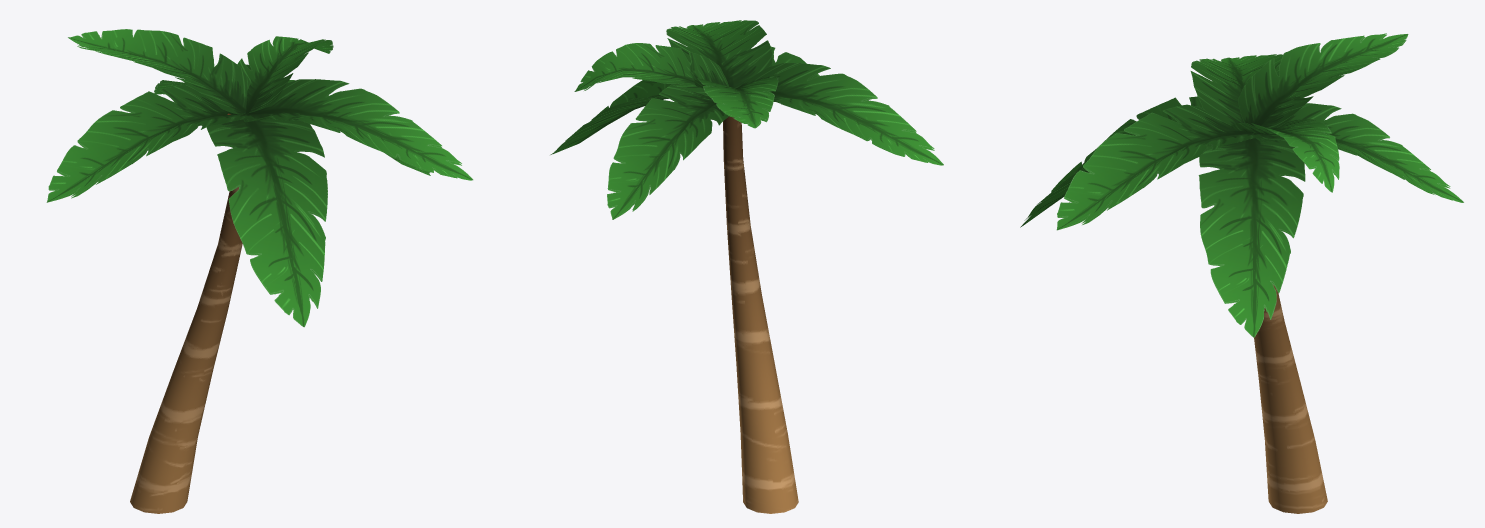
Rendered from PalmTree.fbx.
3 renders of one model, left to right at view 1: azimuth 30°, elevation 25°; view 2: azimuth 150°, elevation 25°; view 3: azimuth 270°, elevation 25°, orthographic. The views are drawn at different scales.
Parts seen in each view (by area): view 1: leave3, tree1, leave4, leave2, leave6, leave7; view 2: tree1, leave5, leave4, leave7, leave2, leave6, leave8; view 3: leave8, leave2, tree1, leave6, leave5, leave4, leave7, leave3.
Boxes of the visible parts, x1,y1,x2,y2 form: leave3: (206,113,327,327); tree1: (130,186,242,513); leave4: (46,84,253,202); leave2: (243,79,473,180); leave6: (68,29,250,114); leave7: (237,36,333,113); tree1: (723,116,798,513); leave5: (607,84,729,219); leave4: (739,63,943,165); leave7: (574,43,728,96); leave2: (666,20,772,88); leave6: (694,73,778,128); leave8: (550,80,709,154); leave8: (1198,133,1305,337); leave2: (1056,104,1262,230); tree1: (1254,285,1327,513); leave6: (1238,33,1408,132); leave5: (1254,103,1463,202); leave4: (1190,54,1282,125); leave7: (1231,119,1339,192); leave3: (1020,96,1207,227).
Size of the model in its own units: 13.02 by 13.63 by 12.93.
3 materials, 3 textured.
